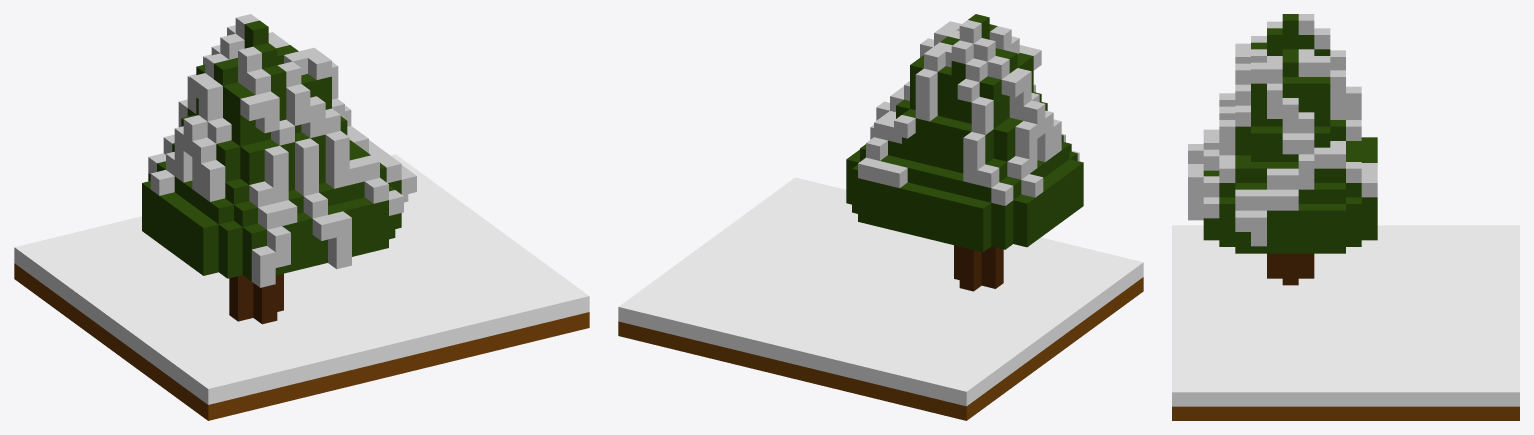
Rendered from Snow+tree.gltf.
The picture shows the model from 3 angles, left to right: view 1: azimuth 30°, elevation 25°; view 2: azimuth 150°, elevation 25°; view 3: azimuth 270°, elevation 25°; orthographic projection. The views are drawn at different scales.
Visible parts, largest first — view 1: Ground, Snow, Tree; view 2: Ground, Tree, Snow; view 3: Ground, Tree, Snow.
Boxes of the visible parts, x1=… form: Ground: x1=14, y1=154, x2=589, y2=420; Snow: x1=148, y1=14, x2=416, y2=287; Tree: x1=142, y1=20, x2=401, y2=324; Ground: x1=618, y1=177, x2=1143, y2=420; Tree: x1=846, y1=14, x2=1083, y2=291; Snow: x1=858, y1=20, x2=1079, y2=205; Ground: x1=1172, y1=225, x2=1519, y2=420; Tree: x1=1203, y1=14, x2=1377, y2=285; Snow: x1=1188, y1=14, x2=1377, y2=246.
Bounding box in the file's own units: 25 × 20 × 22.
1 material, 1 textured.
